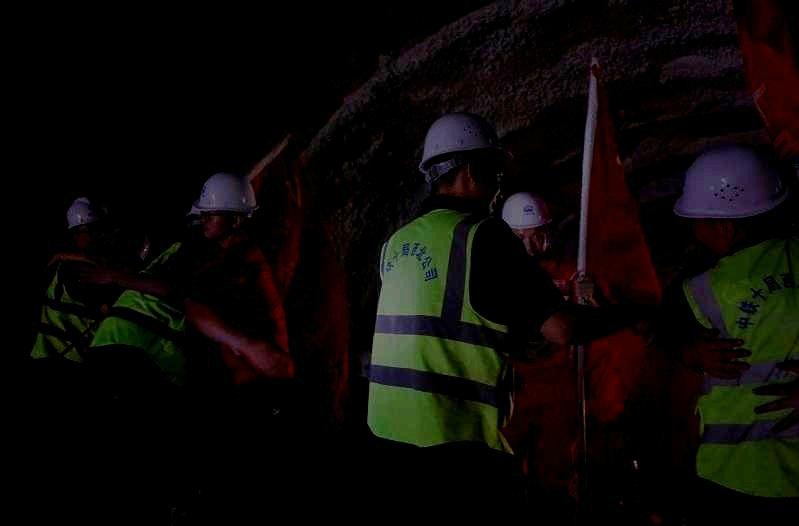helmet: (672, 148, 785, 252), (419, 112, 499, 209), (197, 172, 259, 239), (502, 191, 552, 258), (66, 196, 97, 247)
